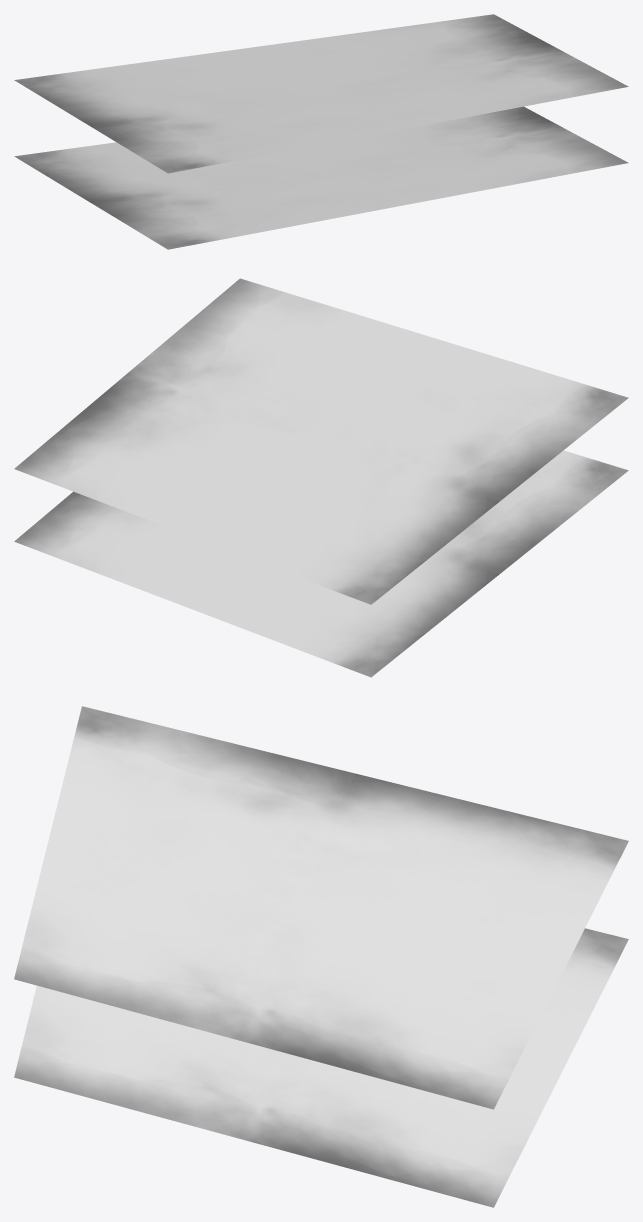
Rendered from CourseWinter_CurveFloor_1_2.fbx.
3 views of the same model, one above another, from view 1: azimuth 30°, elevation 25°; view 2: azimuth 150°, elevation 25°; view 3: azimuth 270°, elevation 25° (orthographic). The views are drawn at different scales.
Parts seen in each view (by area): view 1: polySurface626; view 2: polySurface626; view 3: polySurface626.
Boxes of the visible parts, x1,y1,x2,y2 form: polySurface626: [14, 14, 628, 249]; polySurface626: [14, 278, 628, 677]; polySurface626: [14, 706, 628, 1207].
Size of the model in its own units: 6.67 by 2 by 5.68.
1 material, 1 textured.
